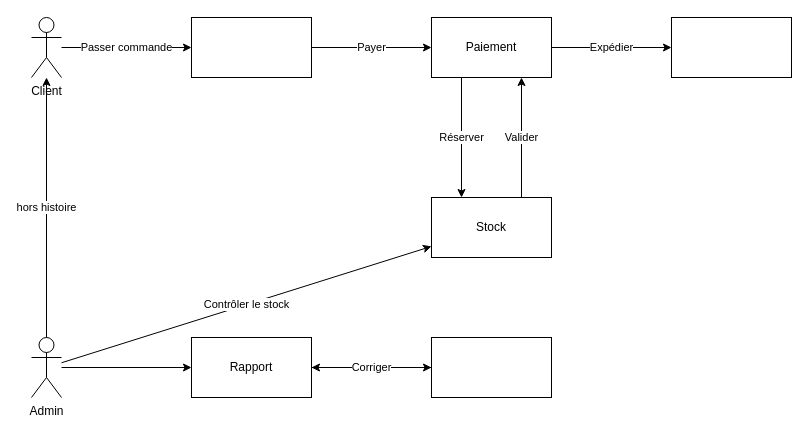
Some shapes in this 810 by 436 pixel diagram are drawn without their labels. Here are the shapes that lost their labels. From the top down, the centre of each, then its label:
the point at 251,47: Panier
the point at 731,47: Livraison
the point at 491,367: Vérification
